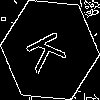K: (25, 25, 75, 75)
